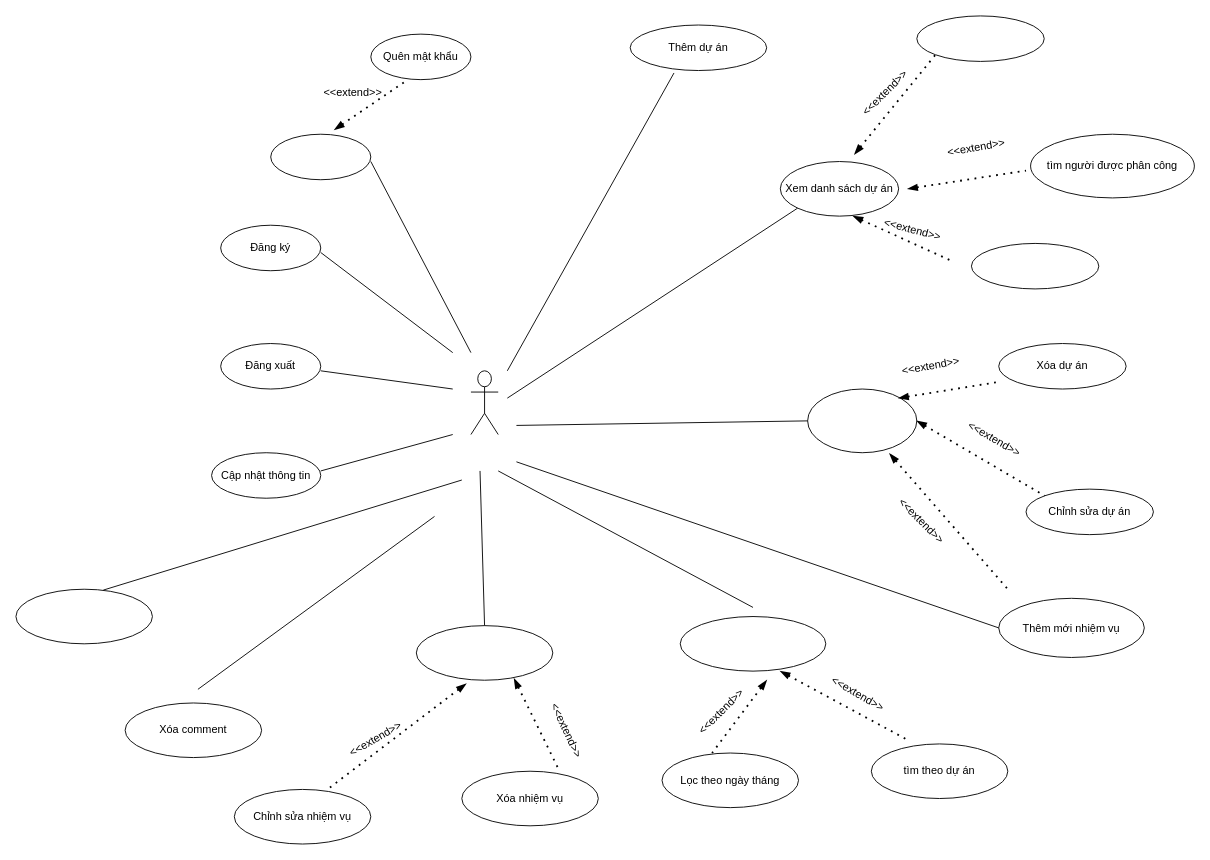
Some shapes in this 1210 by 860 pixel diagram are drawn without their labels. Here are the shapes that lost their labels. From the top down, the centre of each, then its label:
pixel 980 38: Sắp xếp theo từ điển
pixel 320 156: Đăng nhập
pixel 1035 266: tìm heo tiến độ dự án
pixel 484 402: Người dùng
pixel 862 420: Xem chi tiết dự án
pixel 83 616: Tạo comment
pixel 484 652: Xem chi tiết nhiệm vụ
pixel 752 643: Xem danh sách nhiệm vụ
